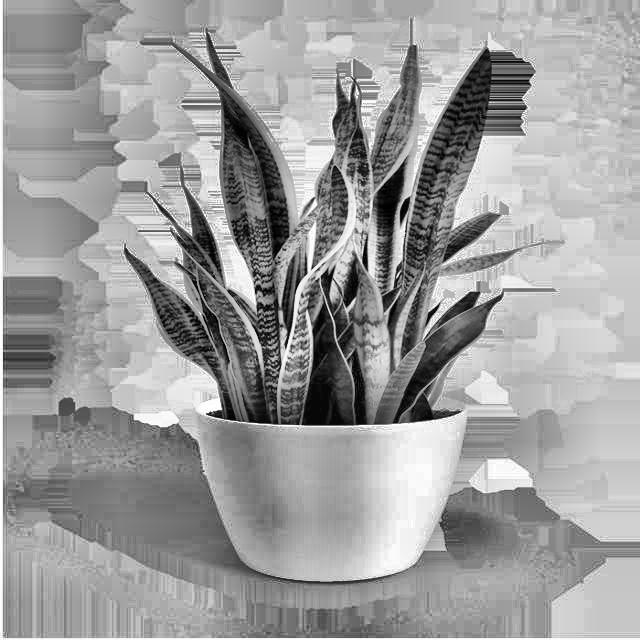plants: (120, 22, 550, 570)
